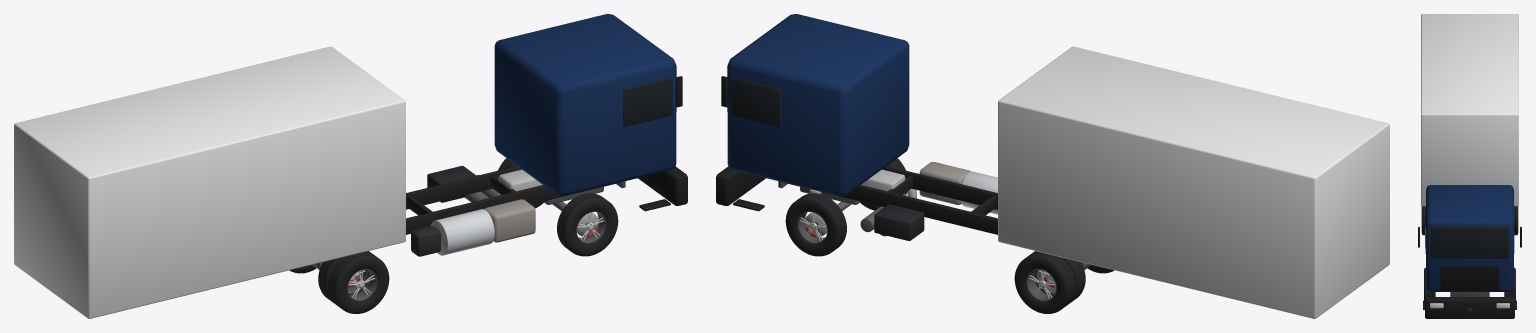
The model's file is lkw.glb.
3 views of the same model, side by side, from view 1: azimuth 30°, elevation 25°; view 2: azimuth 150°, elevation 25°; view 3: azimuth 270°, elevation 25° (orthographic). The views are drawn at different scales.
Visible parts, largest first — view 1: aufbau, kabine, bt:rahmen, bt:rad_hr, bt:rad_vr, bt:tank, kabine_seitenglas_-1, bt:auspuff, stossfaenger, bt:adblue, bt:batterie, bt:getriebe; view 2: aufbau, kabine, bt:rahmen, bt:rad_hl, bt:rad_vl, kabine_seitenglas_1, bt:batterie, stossfaenger, bt:auspuff, bt:tank, bt:getriebe; view 3: aufbau, kabine, kabine_glas, stossfaenger, grill, bt:kuehler, bt:rad_hl, bt:rad_hr, bt:rad_vl, bt:rad_vr.
Boxes of the visible parts, x1=… form: aufbau: x1=14, y1=46, x2=405, y2=318; kabine: x1=494, y1=14, x2=676, y2=195; bt:rahmen: x1=406, y1=166, x2=620, y2=234; bt:rad_hr: x1=318, y1=251, x2=389, y2=313; bt:rad_vr: x1=557, y1=193, x2=618, y2=256; bt:tank: x1=430, y1=209, x2=494, y2=255; kabine_seitenglas_-1: x1=623, y1=77, x2=672, y2=126; bt:auspuff: x1=484, y1=199, x2=535, y2=242; stossfaenger: x1=638, y1=166, x2=687, y2=205; bt:adblue: x1=411, y1=226, x2=440, y2=256; bt:batterie: x1=427, y1=166, x2=476, y2=202; bt:getriebe: x1=498, y1=169, x2=542, y2=195; aufbau: x1=998, y1=46, x2=1389, y2=318; kabine: x1=727, y1=14, x2=909, y2=195; bt:rahmen: x1=783, y1=166, x2=997, y2=234; bt:rad_hl: x1=1014, y1=251, x2=1085, y2=313; bt:rad_vl: x1=785, y1=193, x2=846, y2=256; kabine_seitenglas_1: x1=731, y1=77, x2=780, y2=126; bt:batterie: x1=874, y1=204, x2=924, y2=240; stossfaenger: x1=716, y1=166, x2=765, y2=205; bt:auspuff: x1=919, y1=162, x2=971, y2=204; bt:tank: x1=961, y1=171, x2=997, y2=214; bt:getriebe: x1=861, y1=169, x2=905, y2=195; aufbau: x1=1421, y1=14, x2=1518, y2=206; kabine: x1=1426, y1=185, x2=1513, y2=291; kabine_glas: x1=1430, y1=226, x2=1509, y2=258; stossfaenger: x1=1425, y1=297, x2=1514, y2=318; grill: x1=1440, y1=266, x2=1499, y2=290; bt:kuehler: x1=1450, y1=292, x2=1489, y2=296; bt:rad_hl: x1=1514, y1=206, x2=1518, y2=235; bt:rad_hr: x1=1421, y1=206, x2=1425, y2=235; bt:rad_vl: x1=1504, y1=267, x2=1515, y2=300; bt:rad_vr: x1=1424, y1=267, x2=1435, y2=300.
Bounding box in the file's own units: 11.61 × 3.73 × 2.65.
